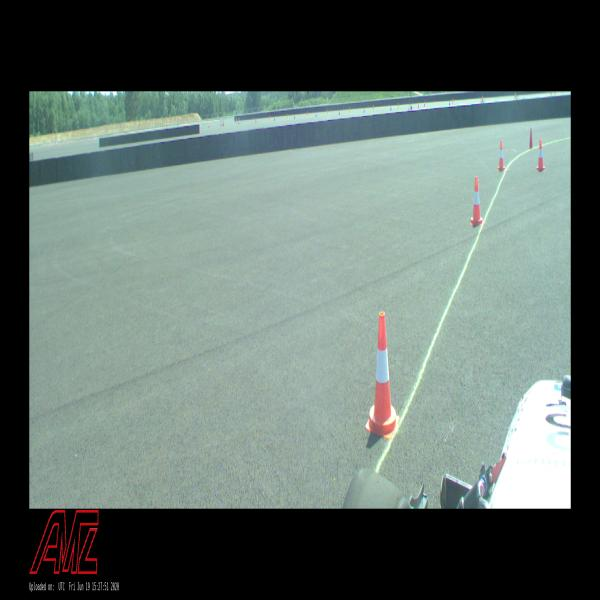orange_cone: (366, 312, 399, 439), (471, 177, 482, 225), (537, 140, 545, 172), (498, 141, 505, 171)
unknown_cone: (529, 128, 532, 149)
